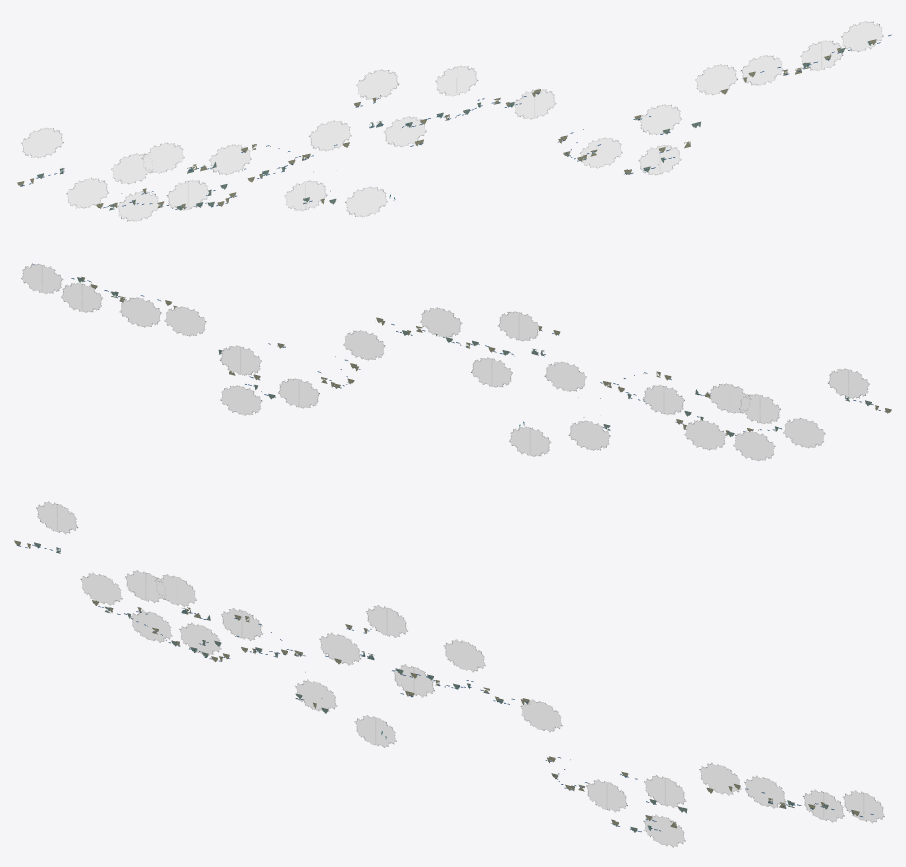
The model's file is island03_bg.glb.
The picture shows the model from 3 angles, top to bottom: view 1: azimuth 30°, elevation 25°; view 2: azimuth 150°, elevation 25°; view 3: azimuth 330°, elevation 25°; orthographic projection.
Visible parts, largest first — view 1: island03_bg; view 2: island03_bg; view 3: island03_bg.
Part boxes in pixels (x1,y1,x2,y2): island03_bg: (17,21,891,221); island03_bg: (21,263,891,461); island03_bg: (14,501,884,847).
Size of the model in its own units: 7320 by 1568 by 135.
9 materials, 9 textured.
